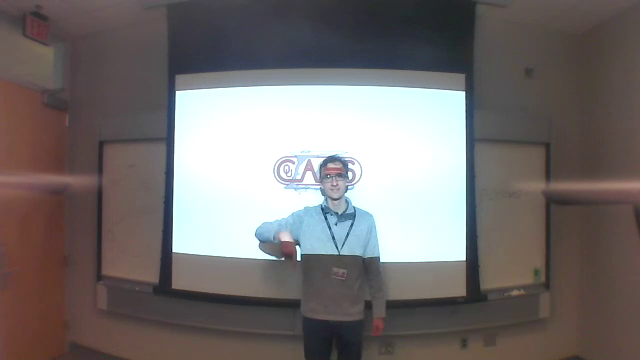down: (272, 232, 302, 266)
